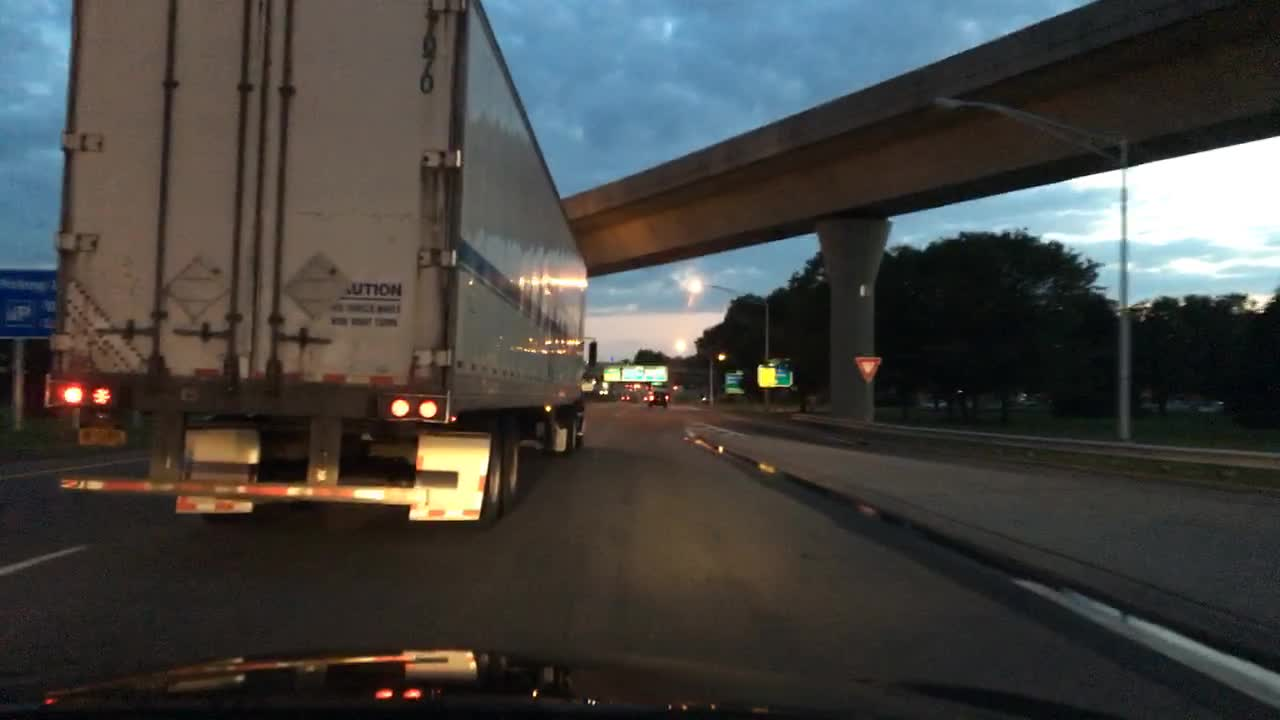car: (647, 389, 670, 407), (1008, 395, 1035, 406), (1198, 400, 1226, 410), (926, 397, 947, 406), (595, 388, 611, 399), (643, 390, 654, 401), (619, 390, 631, 399)
traffic sign: (0, 267, 56, 336), (854, 356, 883, 381), (757, 365, 791, 385), (642, 364, 668, 381), (725, 373, 743, 394), (622, 367, 642, 382), (603, 367, 619, 379)
truck: (40, 0, 587, 531)
